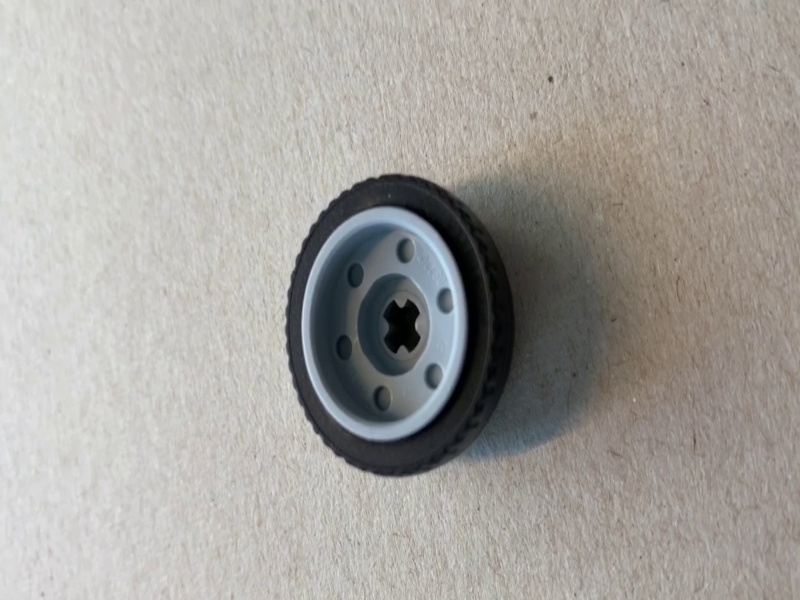tire: (285, 173, 520, 480)
